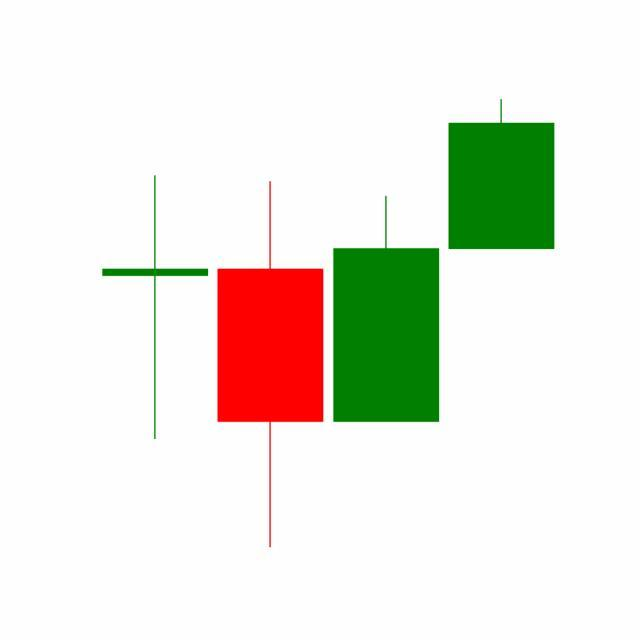Marubozu: (444, 98, 560, 252)
